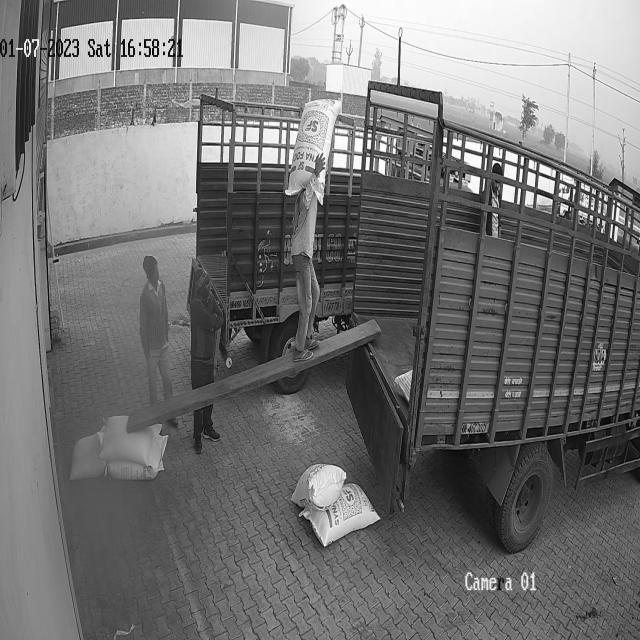sack: (284, 98, 342, 204), (298, 482, 380, 546), (99, 414, 162, 467), (104, 434, 168, 479), (291, 462, 346, 512), (69, 431, 107, 482)
